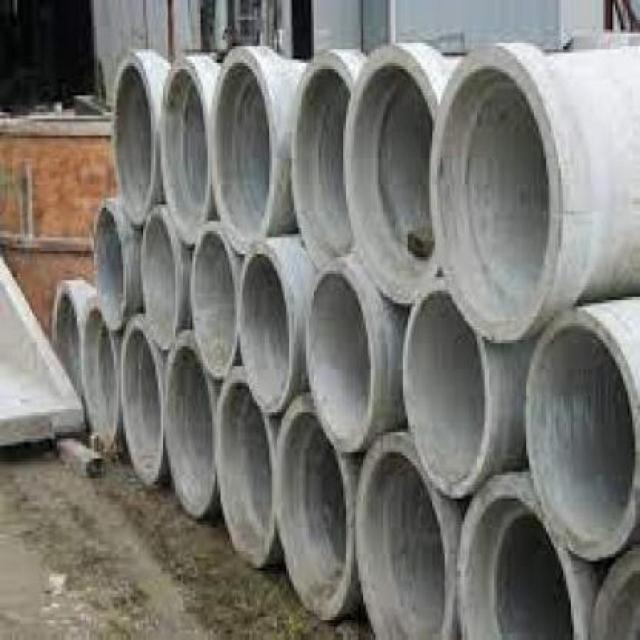pipe: (430, 43, 563, 347), (520, 312, 640, 566), (337, 46, 448, 306), (353, 438, 456, 640), (397, 286, 494, 500), (450, 484, 580, 640), (273, 395, 356, 623), (303, 259, 385, 456), (207, 52, 278, 259), (210, 379, 278, 568), (293, 51, 351, 270), (153, 57, 216, 248), (234, 239, 297, 415), (159, 331, 216, 519), (189, 221, 244, 383), (109, 57, 160, 231), (119, 327, 166, 487), (138, 205, 186, 353), (79, 303, 124, 457), (88, 192, 130, 328), (48, 282, 82, 387)
